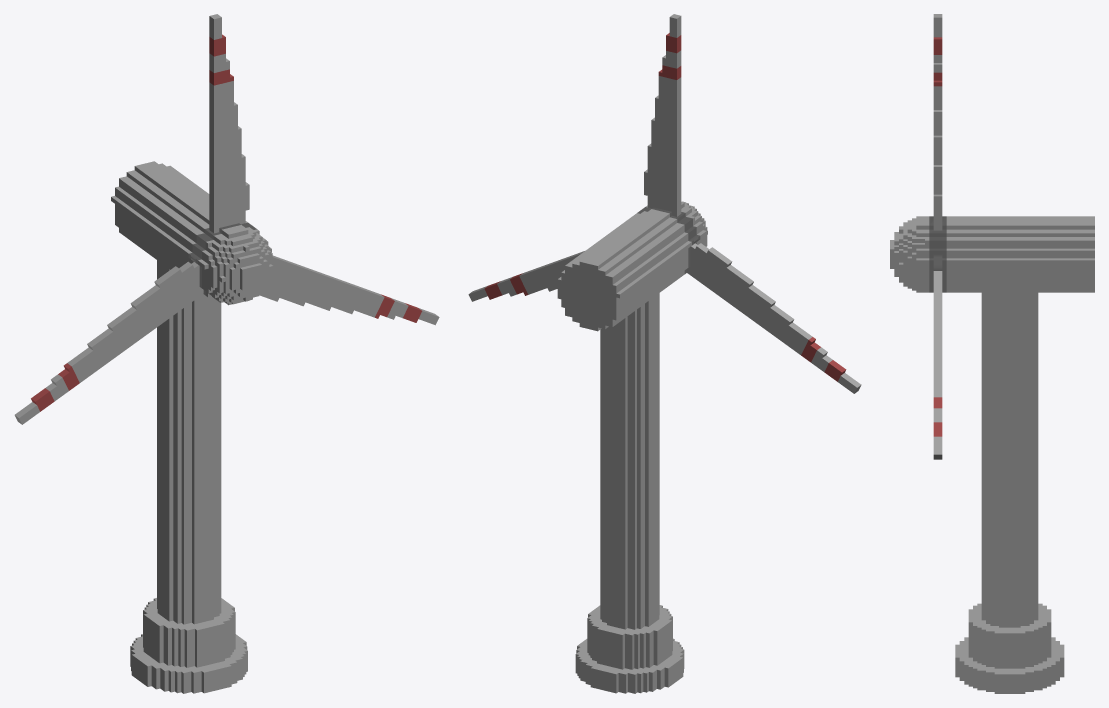
Rendered from energetic-dao-rotating-wind-turbine.glb.
3 renders of one model, left to right at view 1: azimuth 30°, elevation 25°; view 2: azimuth 150°, elevation 25°; view 3: azimuth 270°, elevation 25°, orthographic. The views are drawn at different scales.
Visible parts, largest first — view 1: wind-turbine.002, windTurbine, wind-turbine.003; view 2: wind-turbine.002, windTurbine; view 3: wind-turbine.002, windTurbine, wind-turbine.003.
Boxes of the visible parts, x1,y1,x2,y2 form: wind-turbine.002: (111,161,273,693); windTurbine: (14,14,439,424); wind-turbine.003: (188,222,256,296); wind-turbine.002: (557,201,707,693); windTurbine: (468,14,861,393); wind-turbine.002: (890,216,1094,693); windTurbine: (933,14,942,459); wind-turbine.003: (929,216,946,292).
Size of the model in its own units: 10.61 by 16.46 by 4.7.
Materials: 2 (1 with a texture image).
